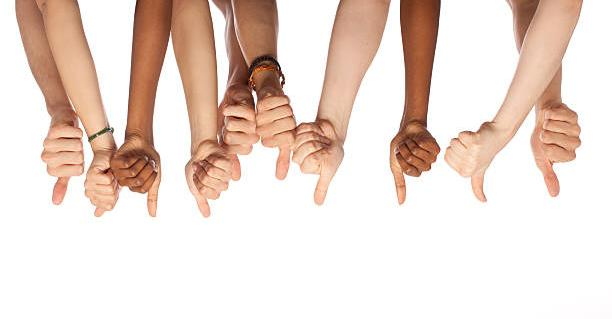thumbsdown: (528, 105, 583, 198), (388, 123, 440, 206), (293, 120, 342, 206), (110, 140, 162, 216), (442, 129, 493, 203), (41, 122, 85, 207), (183, 146, 233, 220), (257, 95, 297, 181), (223, 100, 260, 181)
